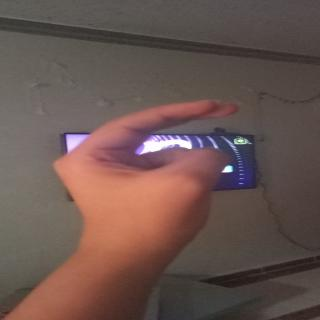ZAY: (41, 95, 272, 226)
